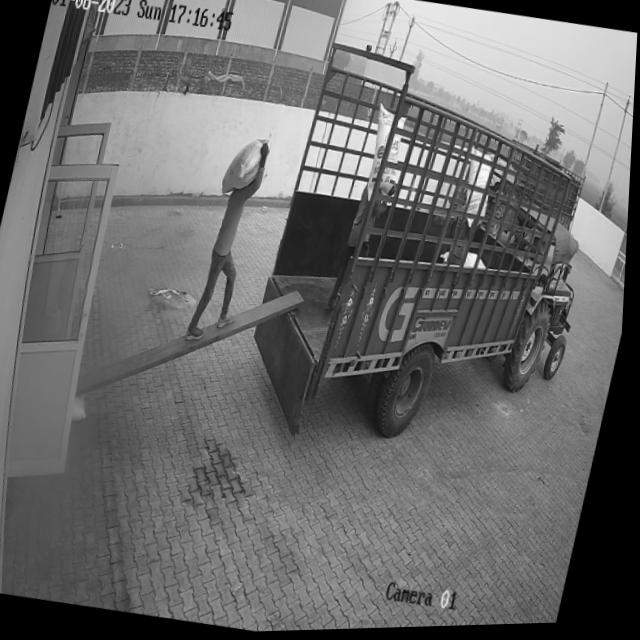sack: (221, 137, 272, 201)
